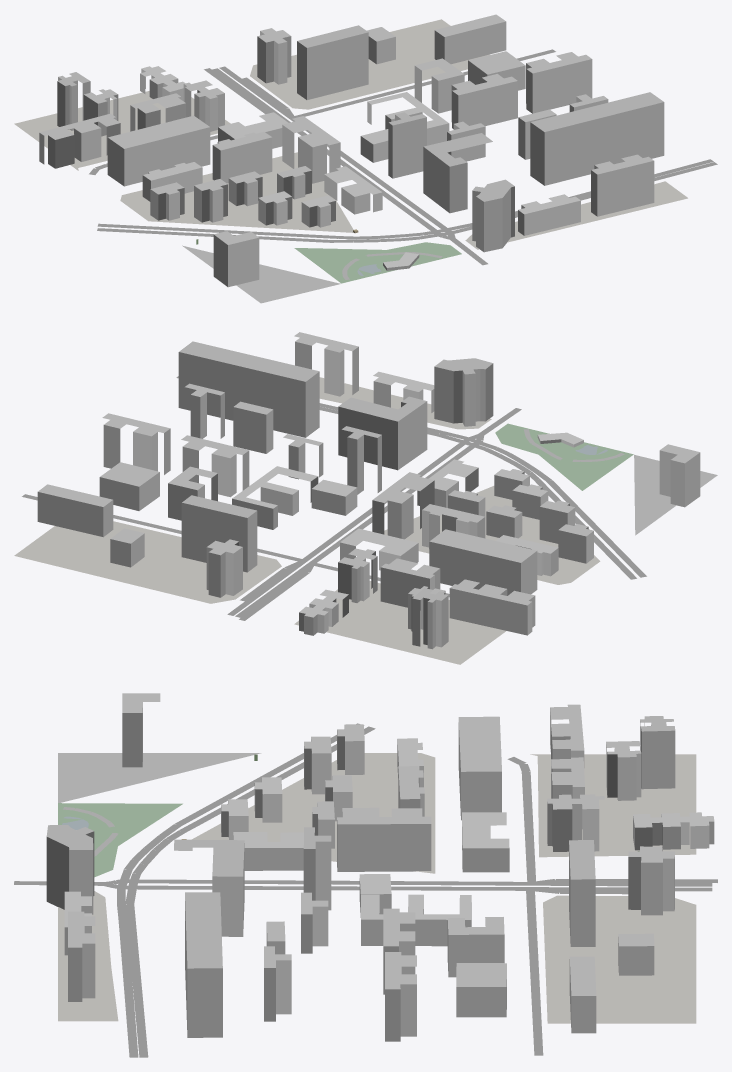
3 renders of one model, top to bottom at view 1: azimuth 30°, elevation 25°; view 2: azimuth 150°, elevation 25°; view 3: azimuth 270°, elevation 25°, orthographic. The views are drawn at different scales.
Size of the model in its own units: 623 by 62.02 by 552.
